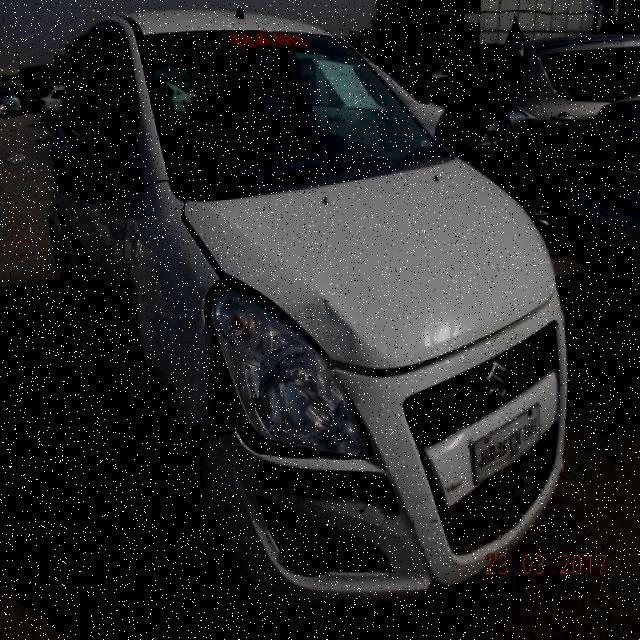car damage: (179, 399, 383, 468), (192, 455, 261, 593), (290, 297, 381, 377)
